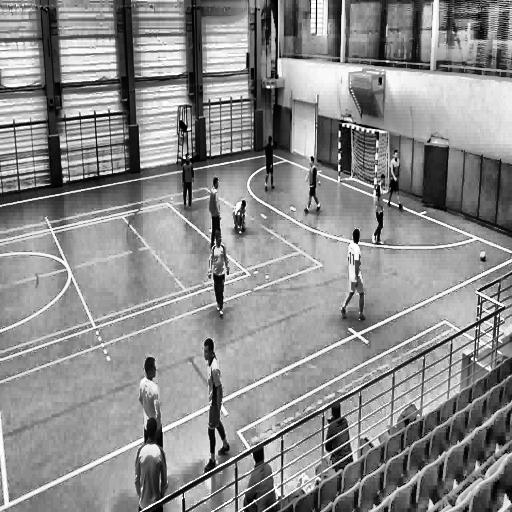ball: (479, 248, 487, 264)
player: (202, 337, 230, 472), (134, 416, 168, 510), (341, 229, 368, 324), (138, 356, 164, 450), (242, 444, 276, 510), (208, 230, 230, 321), (324, 402, 354, 468), (372, 173, 390, 248), (303, 155, 322, 214), (209, 178, 224, 250), (388, 150, 404, 214), (180, 153, 196, 214), (264, 136, 277, 194), (233, 200, 248, 236)
